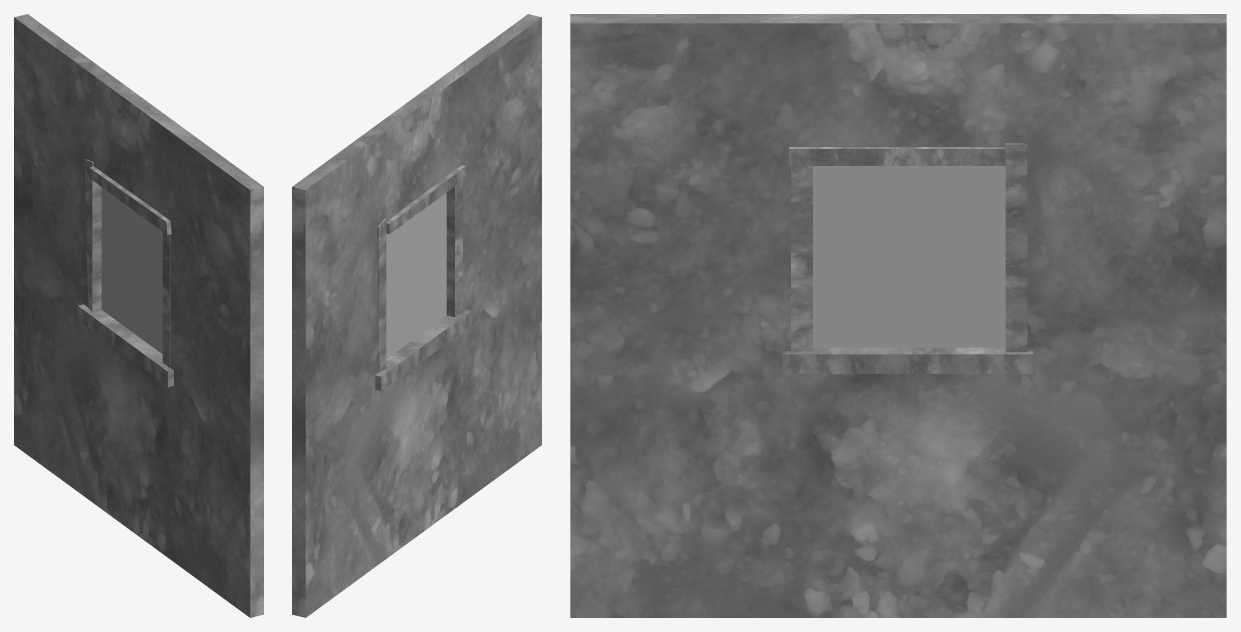
File: SM_WallWindow_01e.fbx
The picture shows the model from 3 angles, left to right: view 1: azimuth 30°, elevation 25°; view 2: azimuth 150°, elevation 25°; view 3: azimuth 270°, elevation 25°; orthographic projection. The views are drawn at different scales.
Visible parts, largest first — view 1: SM_WallWindow_01e_LOD0; view 2: SM_WallWindow_01e_LOD0; view 3: SM_WallWindow_01e_LOD0.
Boxes of the visible parts, left/top/right/bottom form: SM_WallWindow_01e_LOD0: left=14, top=14, right=263, bottom=617; SM_WallWindow_01e_LOD0: left=292, top=14, right=541, bottom=617; SM_WallWindow_01e_LOD0: left=570, top=14, right=1226, bottom=617.
Bounding box in the file's own units: 17.49 × 300 × 300.
